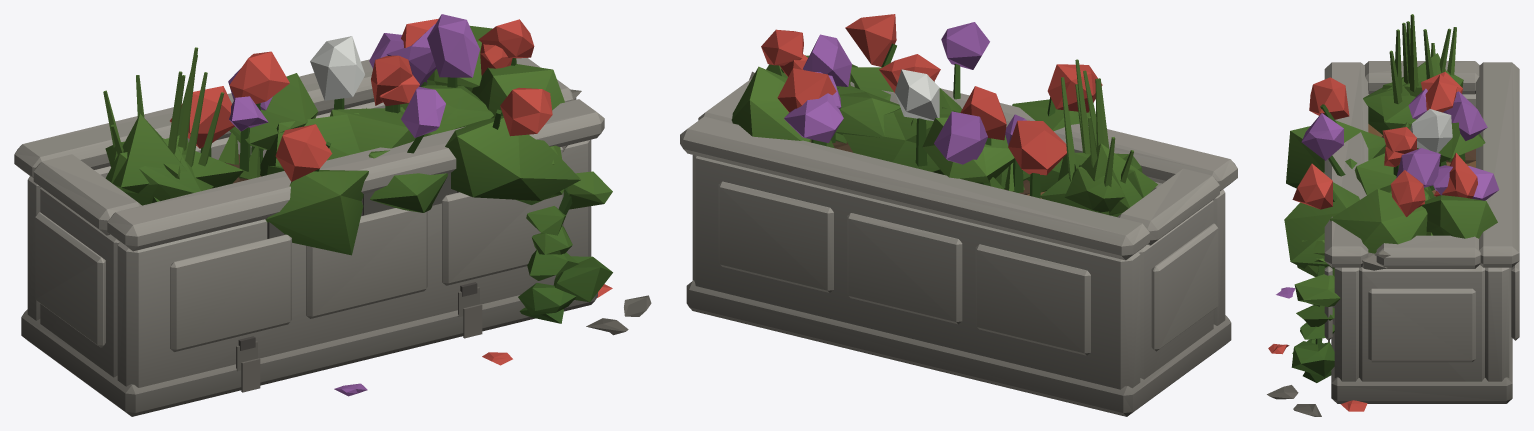
The model's file is flower-planter-01.glb.
3 renders of one model, left to right at view 1: azimuth 30°, elevation 25°; view 2: azimuth 150°, elevation 25°; view 3: azimuth 270°, elevation 25°, orthographic. The views are drawn at different scales.
Parts seen in each view (by area): view 1: flower_planter_01; view 2: flower_planter_01; view 3: flower_planter_01.
Boxes of the visible parts, x1,y1,x2,y2 form: flower_planter_01: [14, 14, 651, 416]; flower_planter_01: [680, 14, 1237, 416]; flower_planter_01: [1267, 14, 1519, 416].
Size of the model in its own units: 1.45 by 0.8235 by 0.7531.
